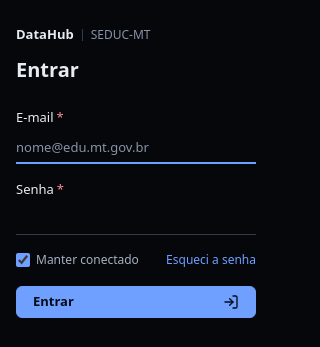
Test: validação na tela › pede a senha quando está vazia
The width and height of the screenshot is (320, 347).
Expected: the heading "Entrar" is shown, [16,56,79,83]
Type "pessoa.teste@edu.mt.gov.br" into the field labelled "E-mail*".
click(136, 148); type("pessoa.teste@edu.mt.gov.br")  # box [16,133,256,163]
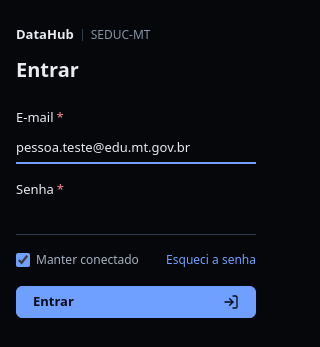
Click the button "Entrar".
click(136, 302)  # box [16,286,256,318]
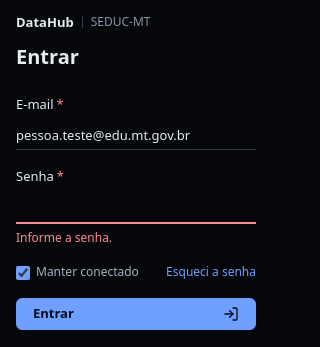
Result: the text "Informe a senha." is shown at [16,229,112,246]
